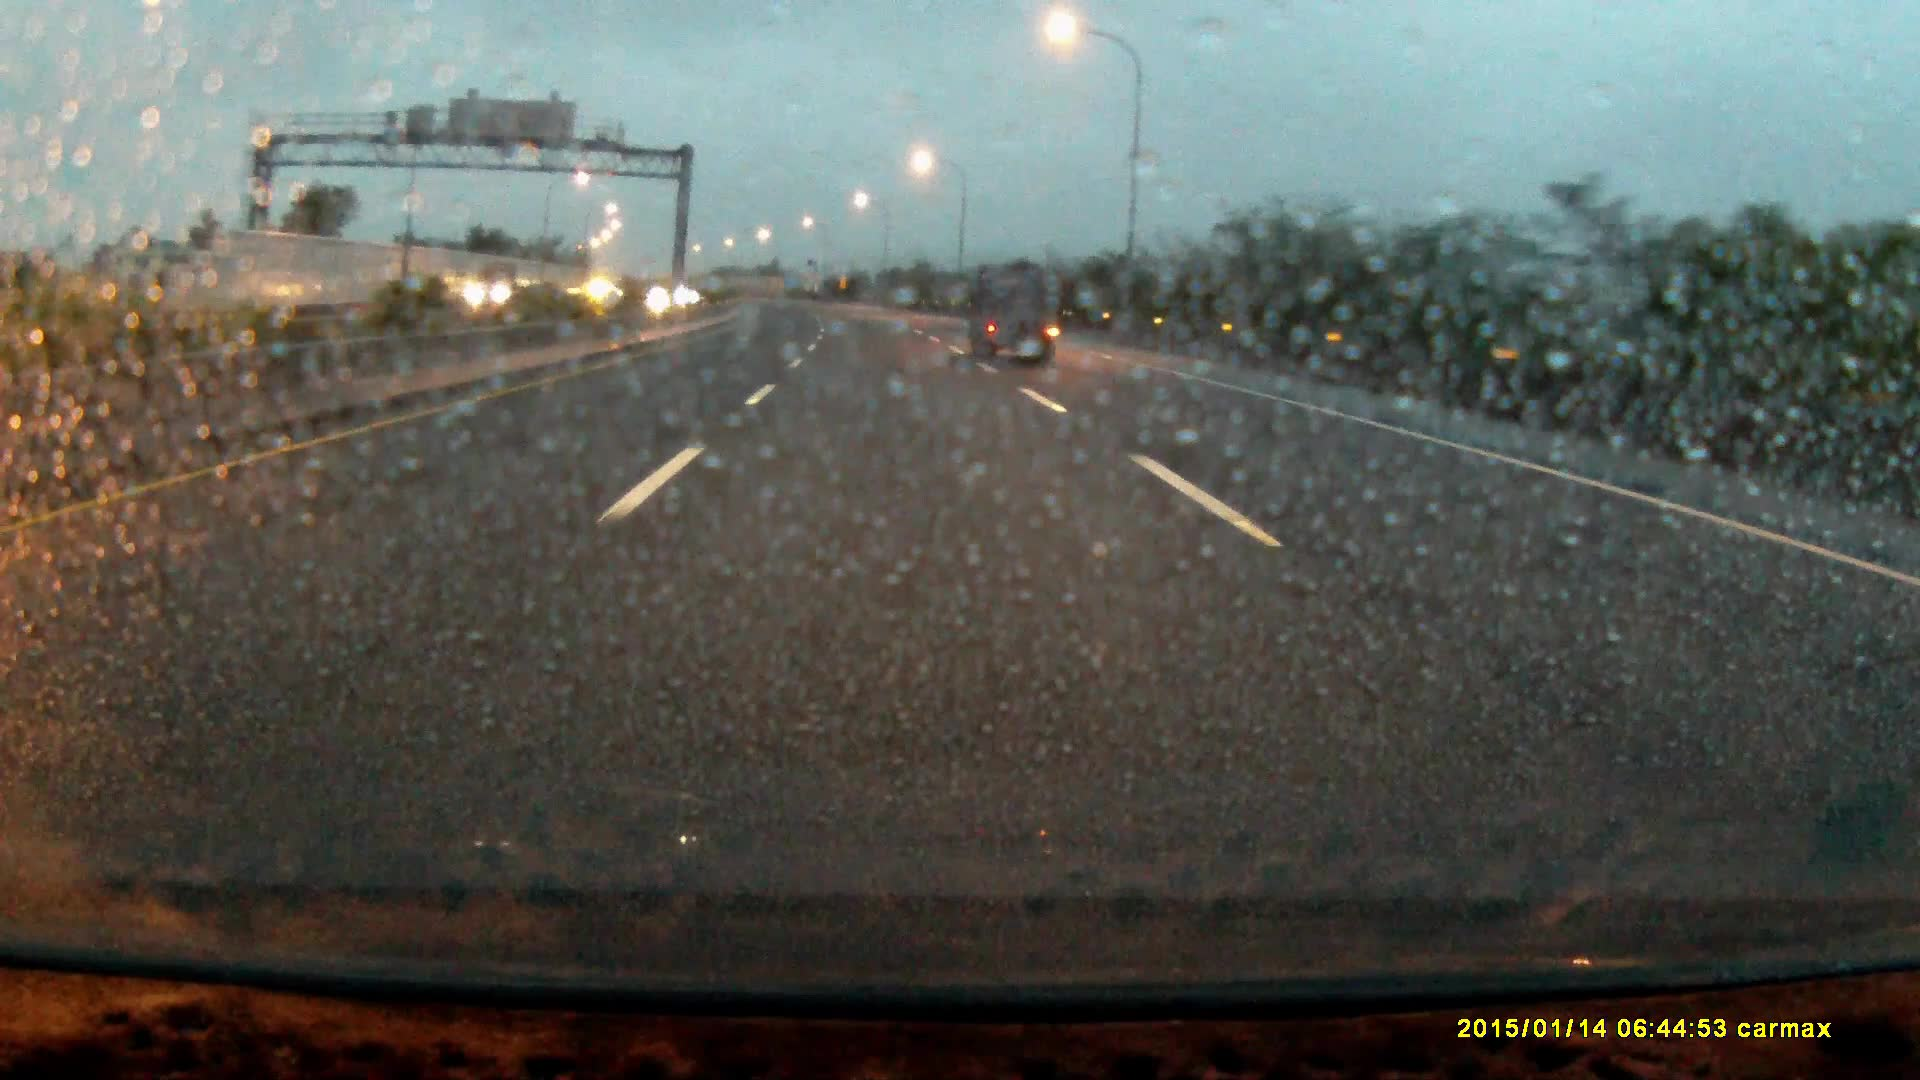vehicle: (973, 270, 1059, 364), (468, 261, 551, 315)
